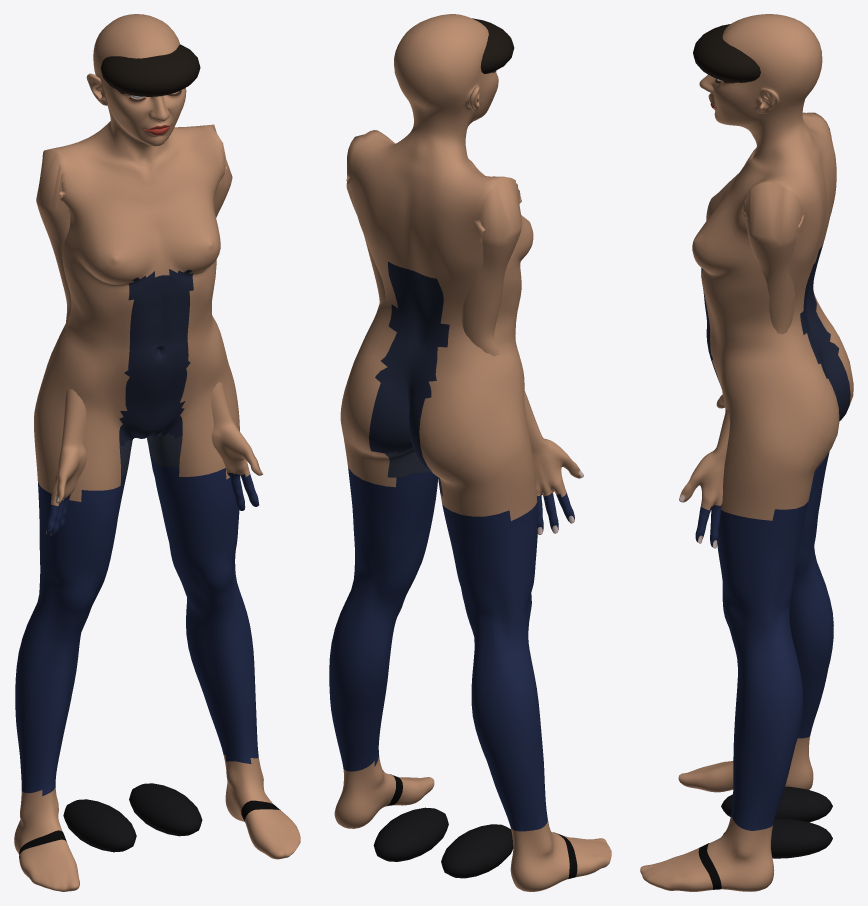
File: hm_ped_noah_v15.obj
3 renders of one model, left to right at view 1: azimuth 30°, elevation 25°; view 2: azimuth 150°, elevation 25°; view 3: azimuth 270°, elevation 25°, orthographic. The views are drawn at different scales.
Parts seen in each view (by area): view 1: hm_ped_noah; view 2: hm_ped_noah; view 3: hm_ped_noah.
Boxes of the visible parts, x1,y1,x2,y2 form: hm_ped_noah: (14, 14, 300, 891); hm_ped_noah: (329, 14, 611, 891); hm_ped_noah: (640, 14, 853, 891).
Bounding box in the file's own units: 0.5697 × 1.78 × 0.419.
